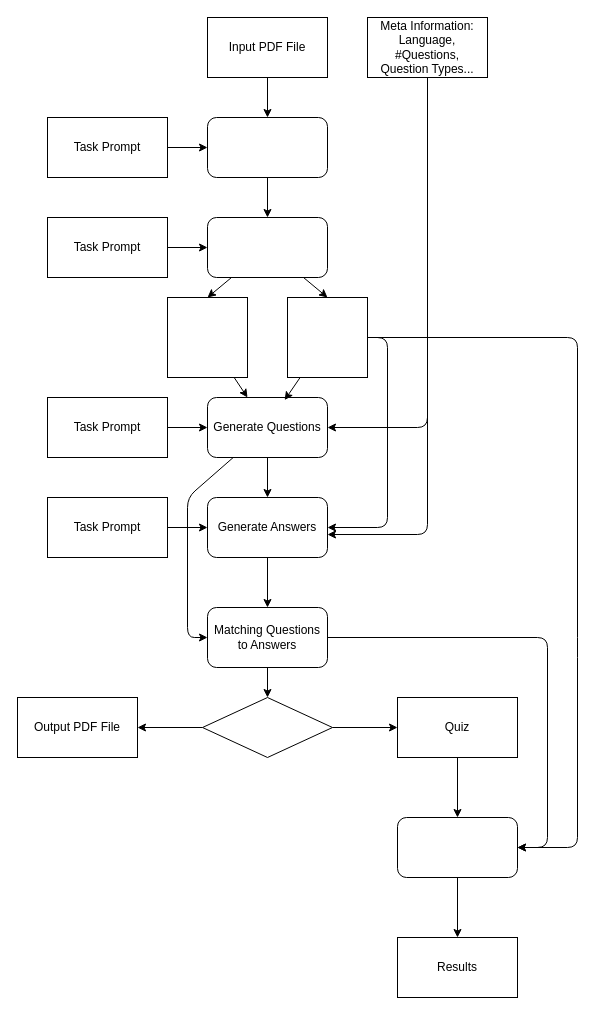
This 603x1015 diagram has some shape labels left out. The shapes that lost their labels are listed below. From the top down, each one's centre as x and y in pixels, then its label:
At [267,147]: "Preprocess PDF Text".
At [267,247]: "RAG for existing Questions and Domain Knowledge".
At [207,337]: "Existing Questions used as Guidance".
At [327,337]: "Relevant Domain Knowledge".
At [267,727]: "User decision".
At [457,847]: "Grading & Reasoning".
